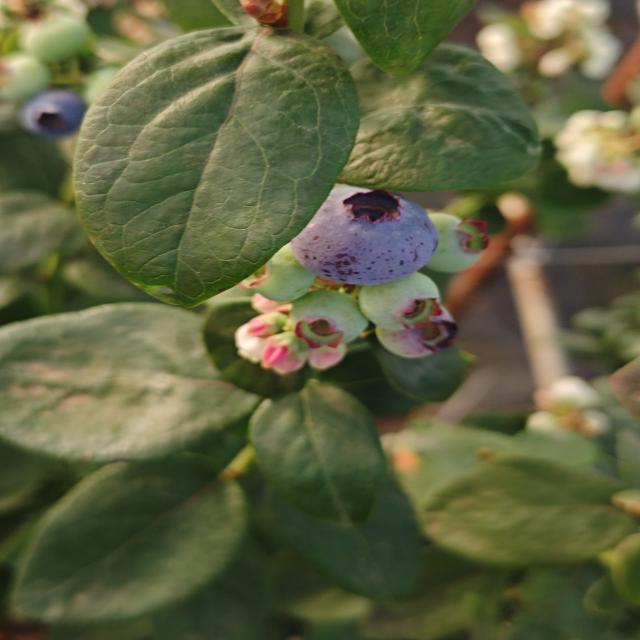ripe: (287, 183, 441, 288), (9, 86, 90, 142)
